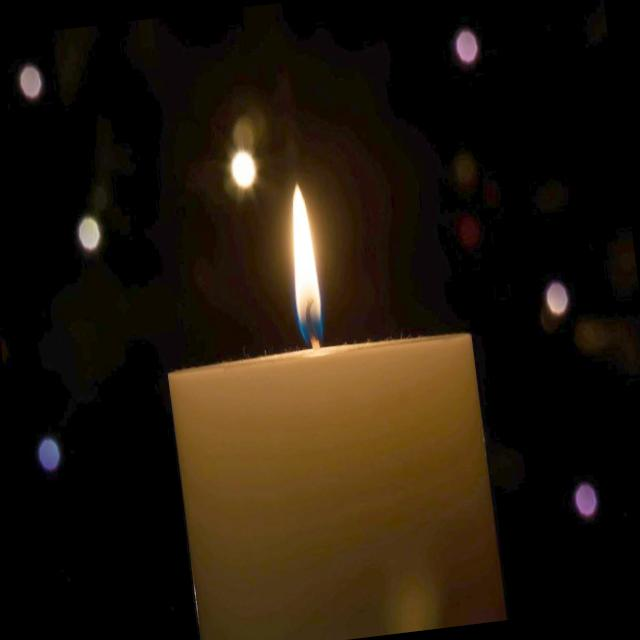Fire_Save: (144, 161, 507, 640), (279, 180, 327, 348)
